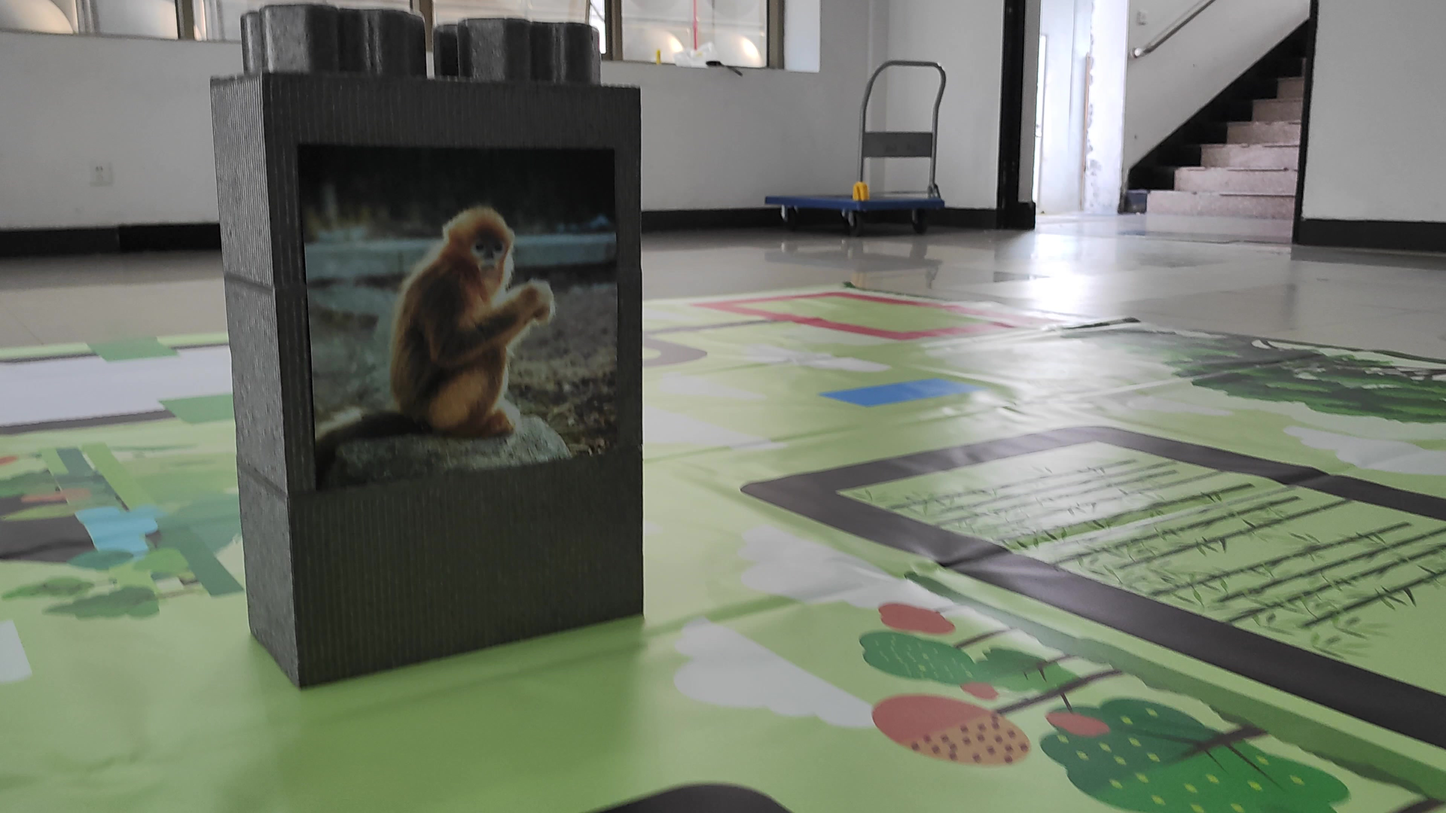monkey: (353, 190, 571, 440)
